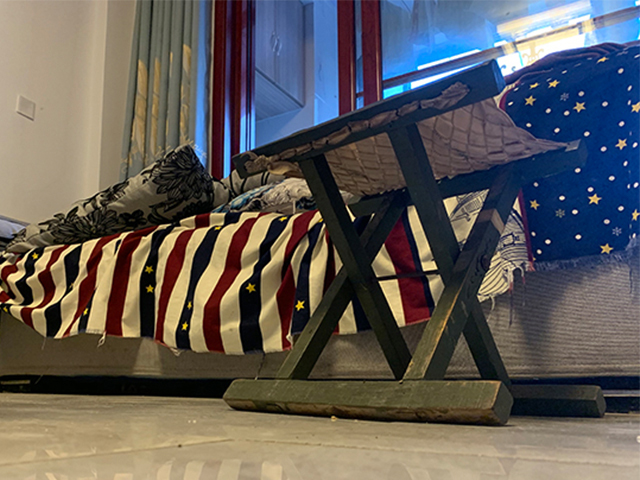curtain: (124, 1, 199, 173)
sofa: (1, 159, 288, 400)
stool: (221, 58, 608, 426)
